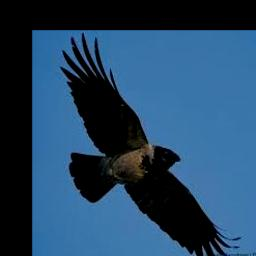Crow: (60, 32, 240, 256)
